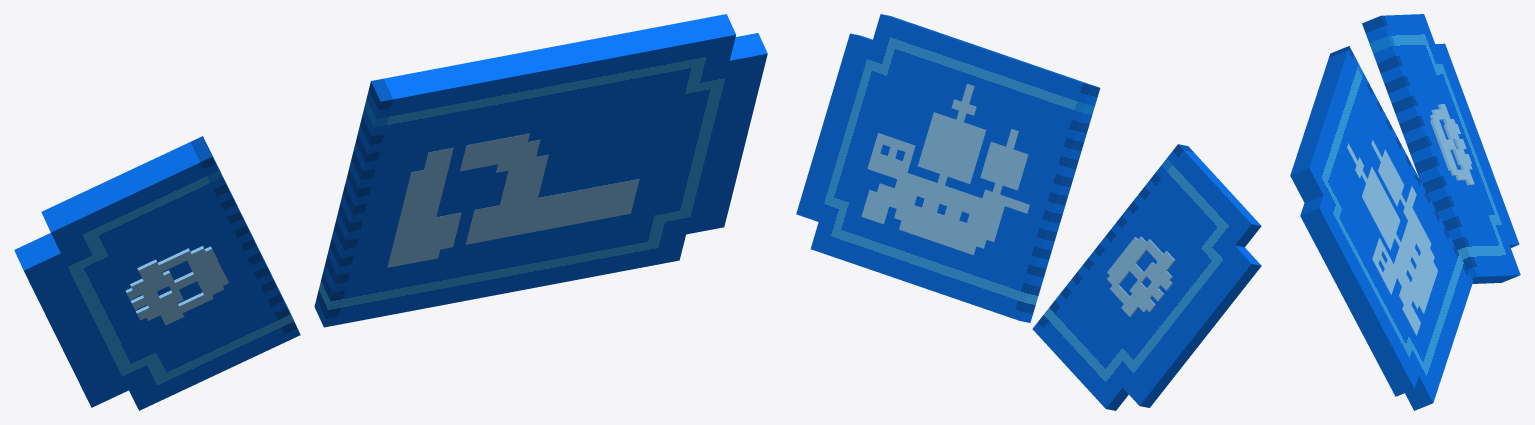
Rendered from ticket_ship.gltf.
3 views of the same model, side by side, from view 1: azimuth 30°, elevation 25°; view 2: azimuth 150°, elevation 25°; view 3: azimuth 270°, elevation 25° (orthographic). The views are drawn at different scales.
Parts seen in each view (by area): view 1: ticket_ship_ticket-Local, ticket_ship_tab-Local, backp$$(2)-Local, skull$$(3)-Local; view 2: ticket_ship_ticket-Local, ticket_ship_tab-Local, icon$$(2)-Local, skull$$(3)-Local; view 3: ticket_ship_ticket-Local, ticket_ship_tab-Local, icon$$(2)-Local, skull$$(3)-Local.
Part boxes in pixels (x1,y1,x2,y2): ticket_ship_ticket-Local: (314,14,767,327); ticket_ship_tab-Local: (14,136,300,410); backp$$(2)-Local: (387,133,639,267); skull$$(3)-Local: (125,246,228,325); ticket_ship_ticket-Local: (796,14,1100,322); ticket_ship_tab-Local: (1032,144,1261,410); icon$$(2)-Local: (861,83,1029,254); skull$$(3)-Local: (1107,236,1175,317); ticket_ship_ticket-Local: (1290,46,1473,410); ticket_ship_tab-Local: (1362,14,1520,283); icon$$(2)-Local: (1347,140,1437,335); skull$$(3)-Local: (1430,104,1474,185).
Bounding box in the file's own units: 115 × 59.99 × 42.85.
5 materials, 5 textured.
